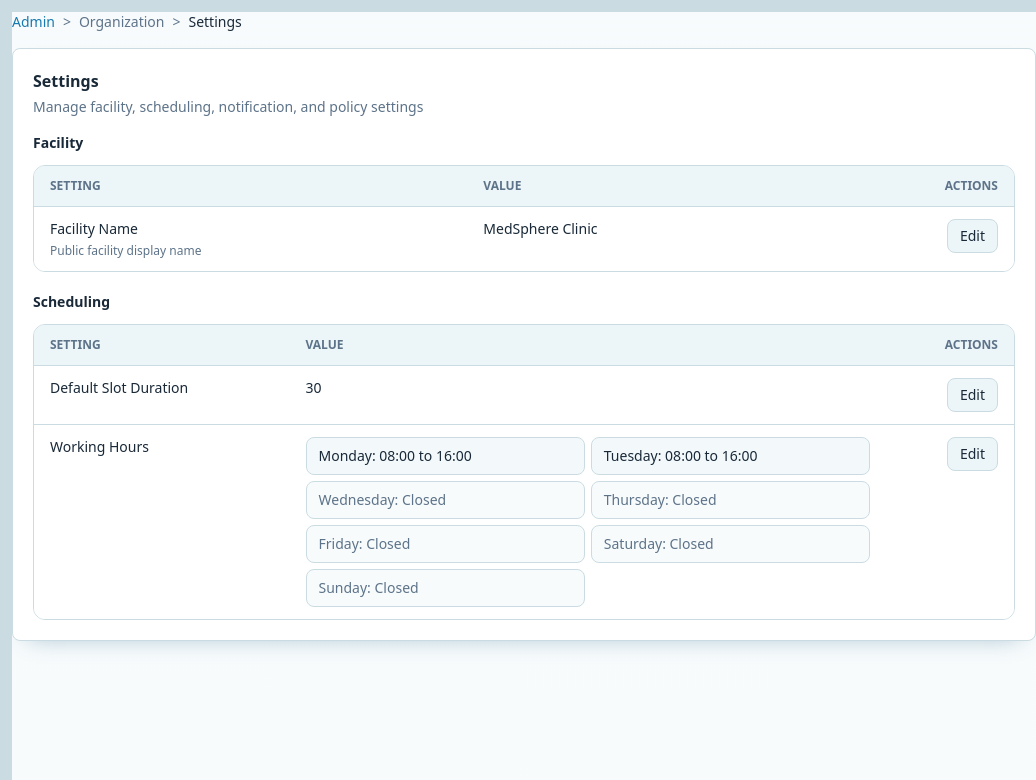
Test: SettingsPage › updates a setting through the Core Service API shape
expect the text "Facility name" is shown: met, box x1=50 y1=219 x2=138 y2=238
Click the button "Edit" in the row of "Facility name" at point(972, 236), box x1=947 y1=219 x2=998 y2=253
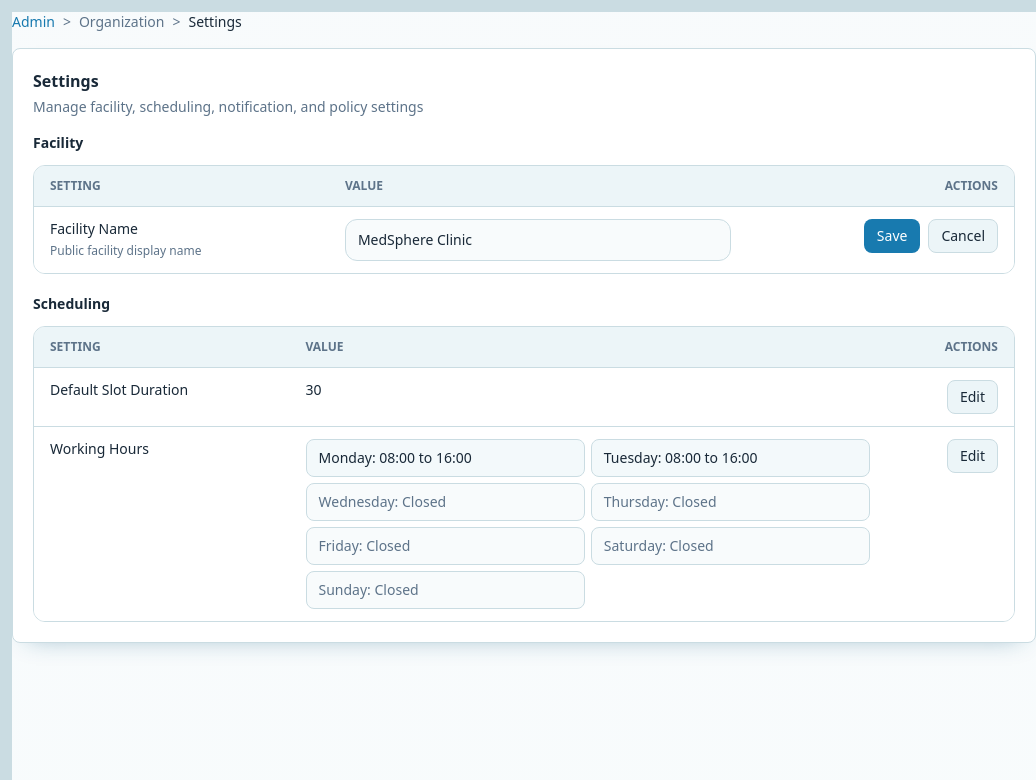
Replace the text in the field showing "MedSphere Clinic" with "MedSphere Dental" at point(538, 240), box x1=345 y1=219 x2=731 y2=261
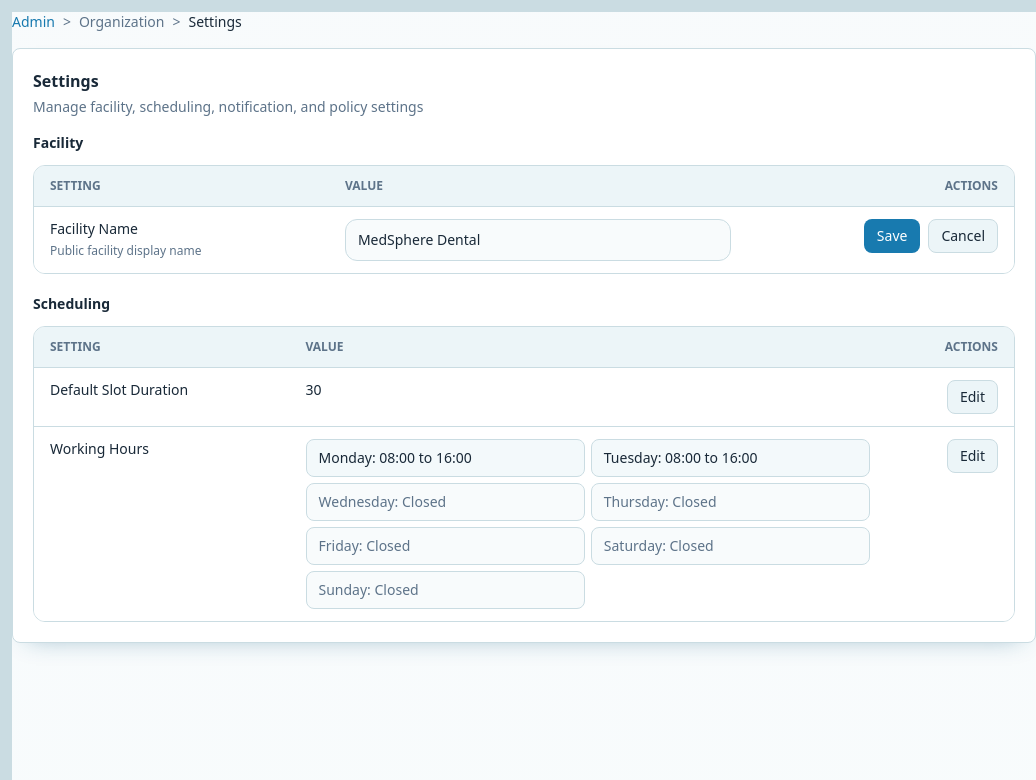
Click the button "Save" at point(892, 236), box x1=864 y1=219 x2=920 y2=253
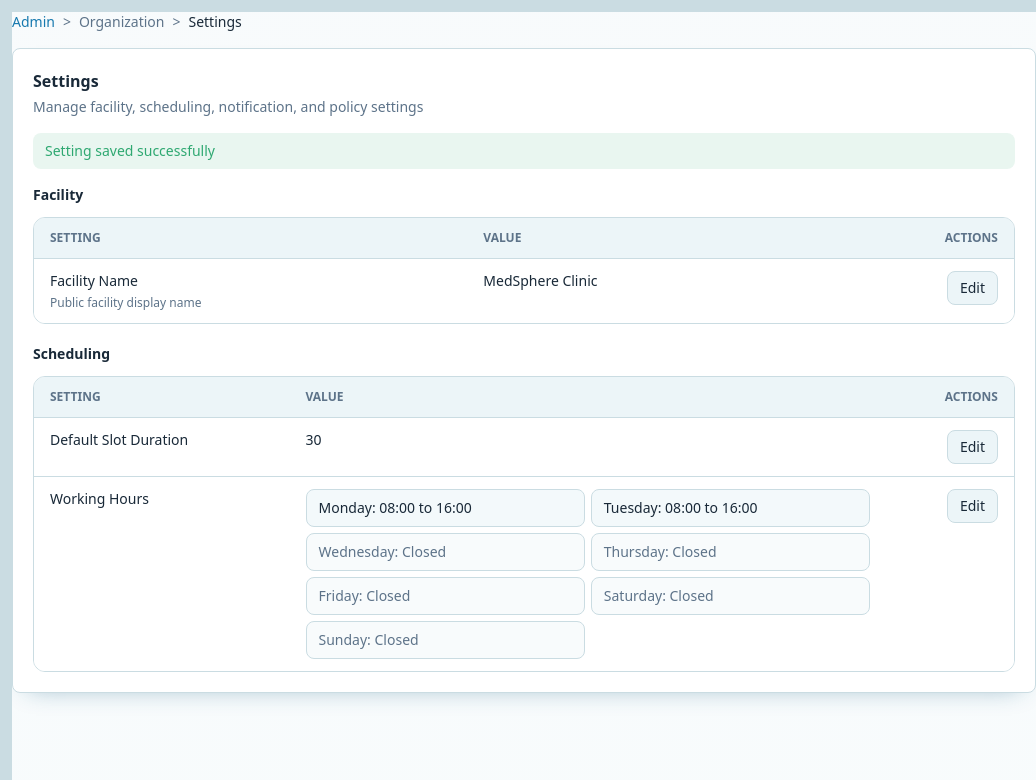
expect the text "Setting saved successfully" is shown: met, box x1=33 y1=133 x2=1015 y2=169
